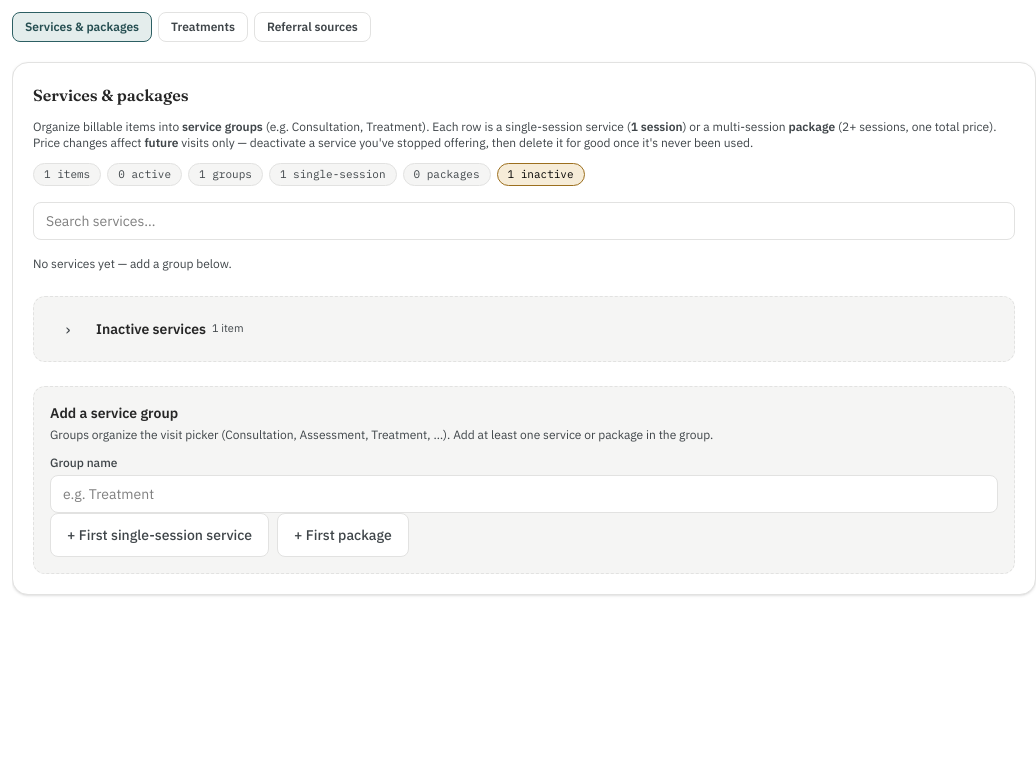
Scenario: ServiceCatalogItemRow — hard delete › shows a usage note instead of Delete for an inactive item with existing visits
Click the button named "Expand inactive services": (68, 328) [46, 306, 90, 350]
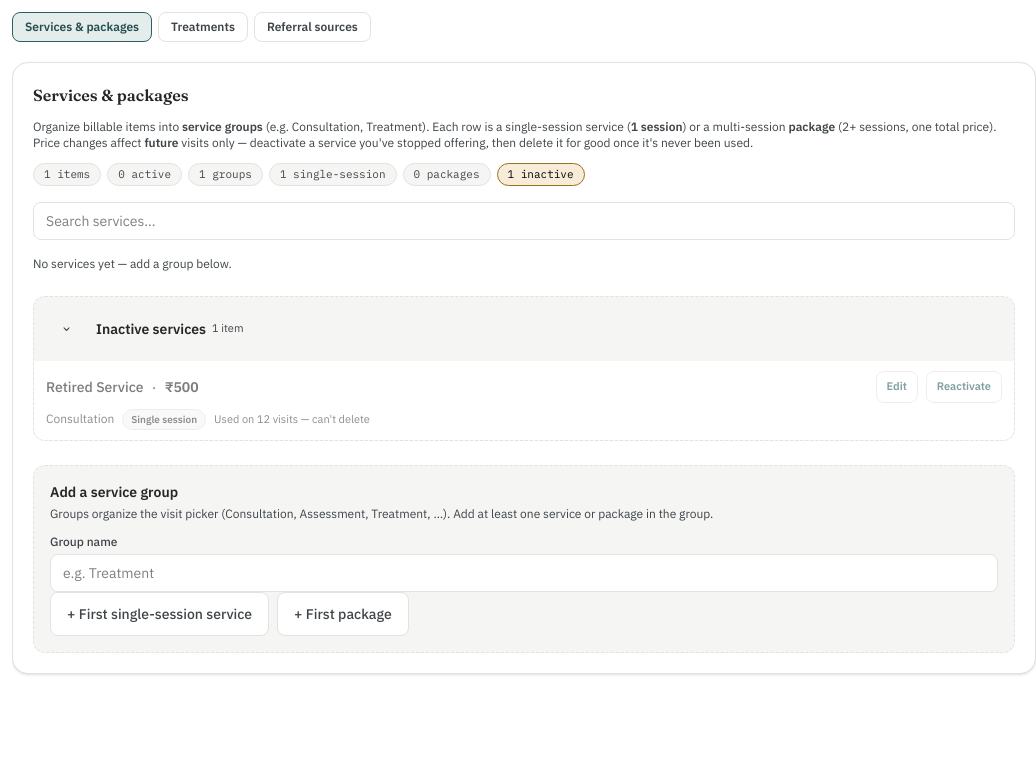
Result: the text "Used on 12 visits — can't delete" is shown at [214, 411, 370, 427]
